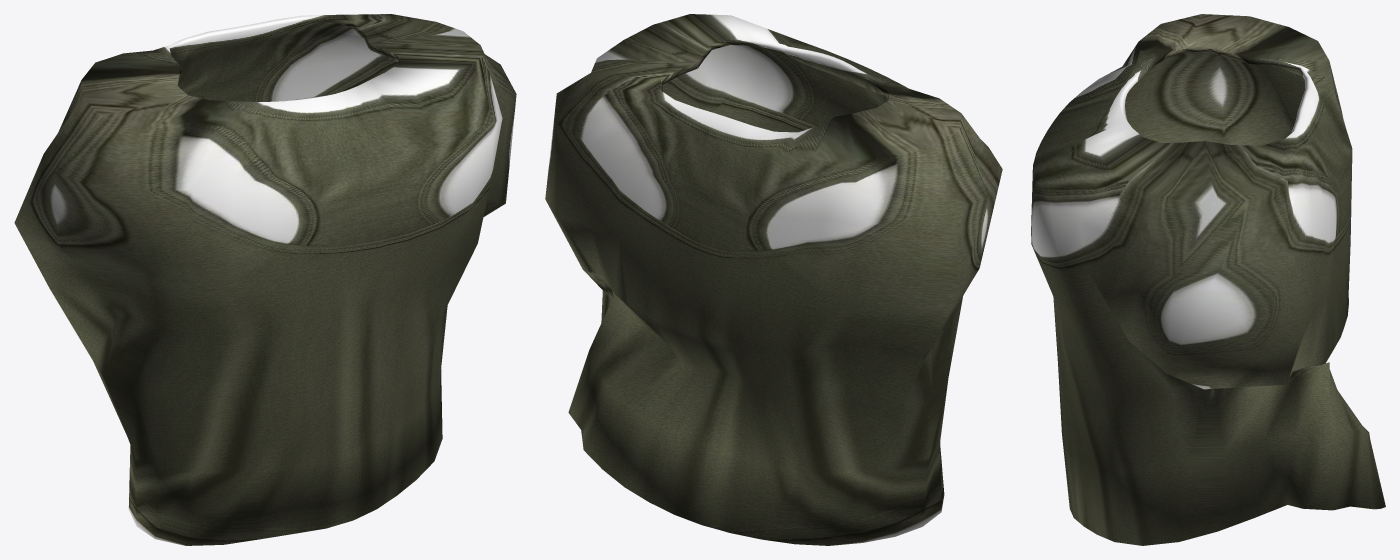
The picture shows the model from 3 angles, left to right: view 1: azimuth 30°, elevation 25°; view 2: azimuth 150°, elevation 25°; view 3: azimuth 270°, elevation 25°; orthographic projection. The views are drawn at different scales.
Visible parts, largest first — view 1: garment; view 2: garment; view 3: garment.
Boxes of the visible parts, bbox=[...] form: garment: bbox=[14, 14, 516, 545]; garment: bbox=[545, 14, 1002, 545]; garment: bbox=[1031, 14, 1385, 545].
Bounding box in the file's own units: 0.5426 × 0.4927 × 0.3673.
1 material, 1 textured.
